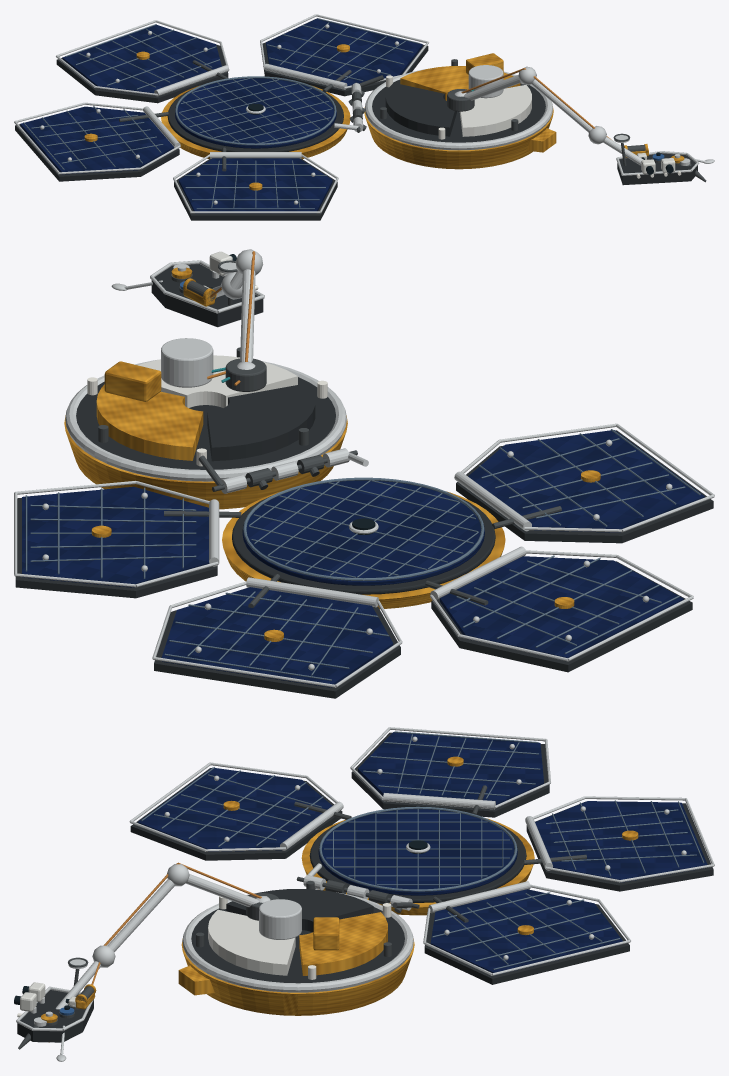
Rendered from beagle2.glb.
3 views of the same model, one above another, from view 1: azimuth 30°, elevation 25°; view 2: azimuth 150°, elevation 25°; view 3: azimuth 270°, elevation 25° (orthographic). The views are drawn at different scales.
Visible parts, largest first — view 1: Lid solar / photovoltaic field, Solar petal 3 / photovoltaic field, Solar petal 4 / photovoltaic field, Solar petal 2 / photovoltaic field, Solar petal 1 / photovoltaic field, Base shell / Kevlar crush bowl, Payload sector / 2 service electronics, Payload sector / 3 ARM stow and local electronics, Base shell / upper clamp ring, Base shell / inner carbon deck, Lid shell / inner carbon plate, Payload sector / 1 GAP (+18 smaller); view 2: Lid solar / photovoltaic field, Solar petal 2 / photovoltaic field, Solar petal 1 / photovoltaic field, Solar petal 3 / photovoltaic field, Solar petal 4 / photovoltaic field, Payload sector / 2 service electronics, Payload sector / 1 GAP, Base shell / inner carbon deck, Base shell / Kevlar crush bowl, Base shell / upper clamp ring, Lid shell / inner carbon plate, Solar petal 2 / composite substrate (+16 smaller); view 3: Lid solar / photovoltaic field, Solar petal 1 / photovoltaic field, Solar petal 2 / photovoltaic field, Solar petal 4 / photovoltaic field, Solar petal 3 / photovoltaic field, Base shell / Kevlar crush bowl, Payload sector / 3 ARM stow and local electronics, Payload sector / 1 GAP, Base shell / upper clamp ring, Base shell / inner carbon deck, Payload sector / 2 service electronics, Solar petal 1 / composite substrate (+15 smaller).
Part boxes in pixels (x1=…): Lid solar / photovoltaic field: x1=175, y1=78, x2=336, y2=148; Solar petal 3 / photovoltaic field: x1=20, y1=106, x2=173, y2=174; Solar petal 4 / photovoltaic field: x1=179, y1=158, x2=332, y2=213; Solar petal 2 / photovoltaic field: x1=62, y1=25, x2=221, y2=93; Solar petal 1 / photovoltaic field: x1=266, y1=19, x2=422, y2=86; Base shell / Kevlar crush bowl: x1=364, y1=107, x2=553, y2=169; Payload sector / 2 service electronics: x1=385, y1=83, x2=456, y2=136; Payload sector / 3 ARM stow and local electronics: x1=459, y1=85, x2=531, y2=136; Base shell / upper clamp ring: x1=364, y1=69, x2=552, y2=150; Base shell / inner carbon deck: x1=372, y1=79, x2=545, y2=142; Lid shell / inner carbon plate: x1=167, y1=89, x2=343, y2=151; Payload sector / 1 GAP: x1=400, y1=66, x2=520, y2=100; Lid solar / photovoltaic field: x1=242, y1=480, x2=484, y2=585; Solar petal 2 / photovoltaic field: x1=161, y1=587, x2=393, y2=687; Solar petal 1 / photovoltaic field: x1=22, y1=486, x2=209, y2=587; Solar petal 3 / photovoltaic field: x1=440, y1=556, x2=683, y2=657; Solar petal 4 / photovoltaic field: x1=468, y1=430, x2=704, y2=532; Payload sector / 2 service electronics: x1=207, y1=383, x2=315, y2=461; Payload sector / 1 GAP: x1=96, y1=384, x2=203, y2=460; Base shell / inner carbon deck: x1=76, y1=377, x2=335, y2=469; Base shell / Kevlar crush bowl: x1=64, y1=415, x2=347, y2=509; Base shell / upper clamp ring: x1=65, y1=359, x2=346, y2=481; Lid shell / inner carbon plate: x1=232, y1=496, x2=495, y2=594; Solar petal 2 / composite substrate: x1=154, y1=588, x2=400, y2=698; Lid solar / photovoltaic field: x1=318, y1=809, x2=517, y2=895; Solar petal 1 / photovoltaic field: x1=430, y1=889, x2=622, y2=975; Solar petal 2 / photovoltaic field: x1=535, y1=801, x2=707, y2=882; Solar petal 4 / photovoltaic field: x1=137, y1=767, x2=332, y2=851; Solar petal 3 / photovoltaic field: x1=358, y1=732, x2=543, y2=804; Base shell / Kevlar crush bowl: x1=181, y1=939, x2=414, y2=1015; Payload sector / 3 ARM stow and local electronics: x1=208, y1=909, x2=295, y2=975; Payload sector / 1 GAP: x1=299, y1=912, x2=387, y2=975; Base shell / upper clamp ring: x1=182, y1=892, x2=413, y2=992; Base shell / inner carbon deck: x1=191, y1=907, x2=404, y2=983; Payload sector / 2 service electronics: x1=226, y1=889, x2=373, y2=932; Solar petal 1 / composite substrate: x1=424, y1=904, x2=629, y2=984.
Size of the model in its own units: 2.1 by 0.368 by 1.99.
12 materials, 2 textured.
